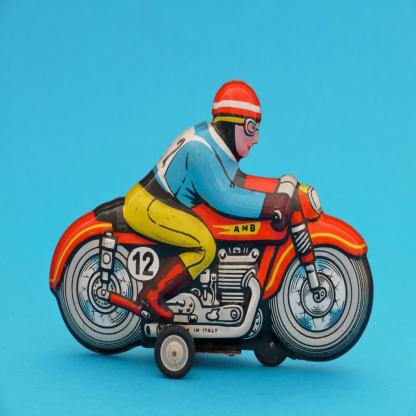Helmet: (209, 82, 262, 153)
